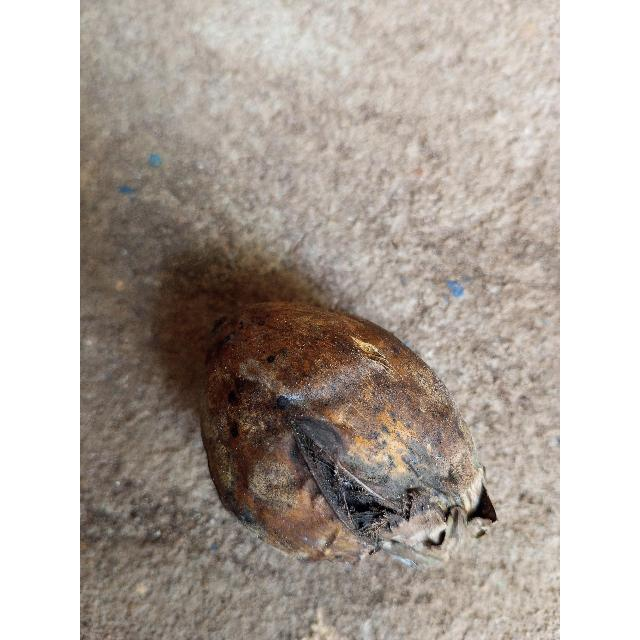damaged: (201, 303, 496, 559)
